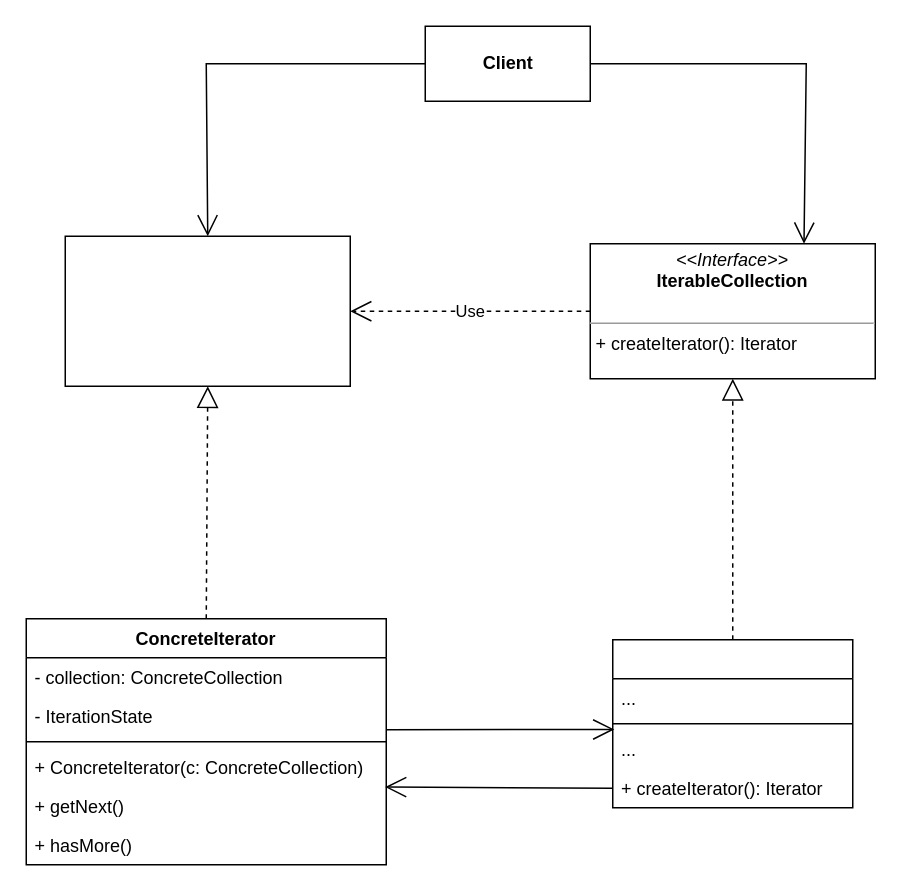
Image size: 902x896. Some labels were removed from this diagram. Each missing label, with the box of its shape:
<<Interface>> Iterator + getNext() + hasMore(): boolean: (64, 235, 350, 386)
ConcreteCollection: (611, 638, 853, 808)
